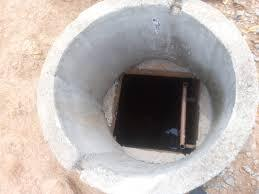open_manhole: (49, 8, 246, 184)
